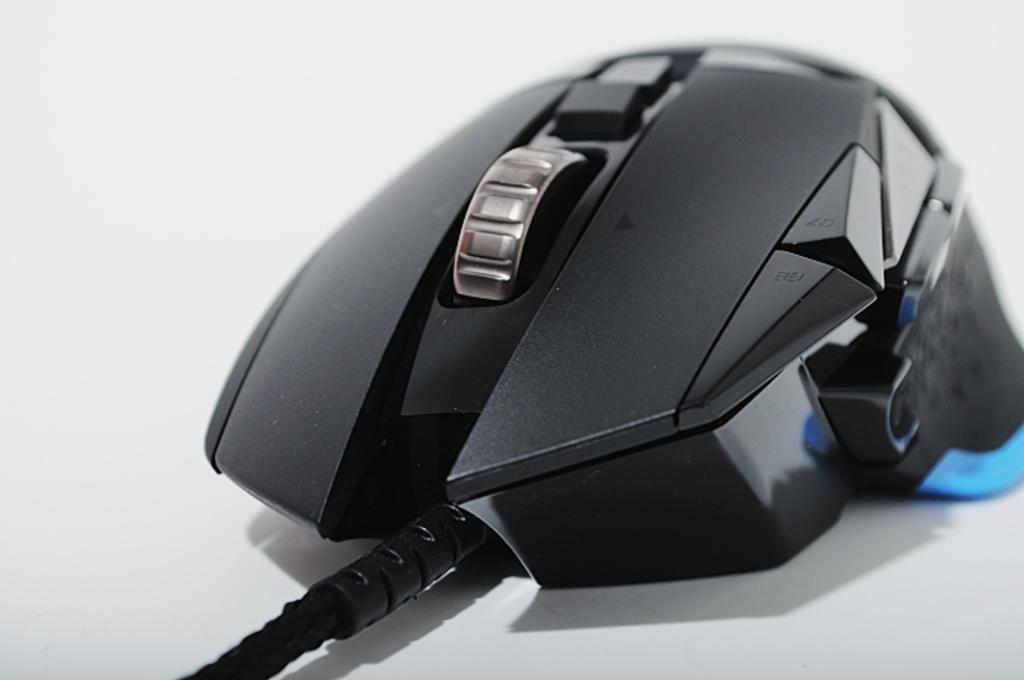Computer-mouse: (200, 32, 1023, 600)
